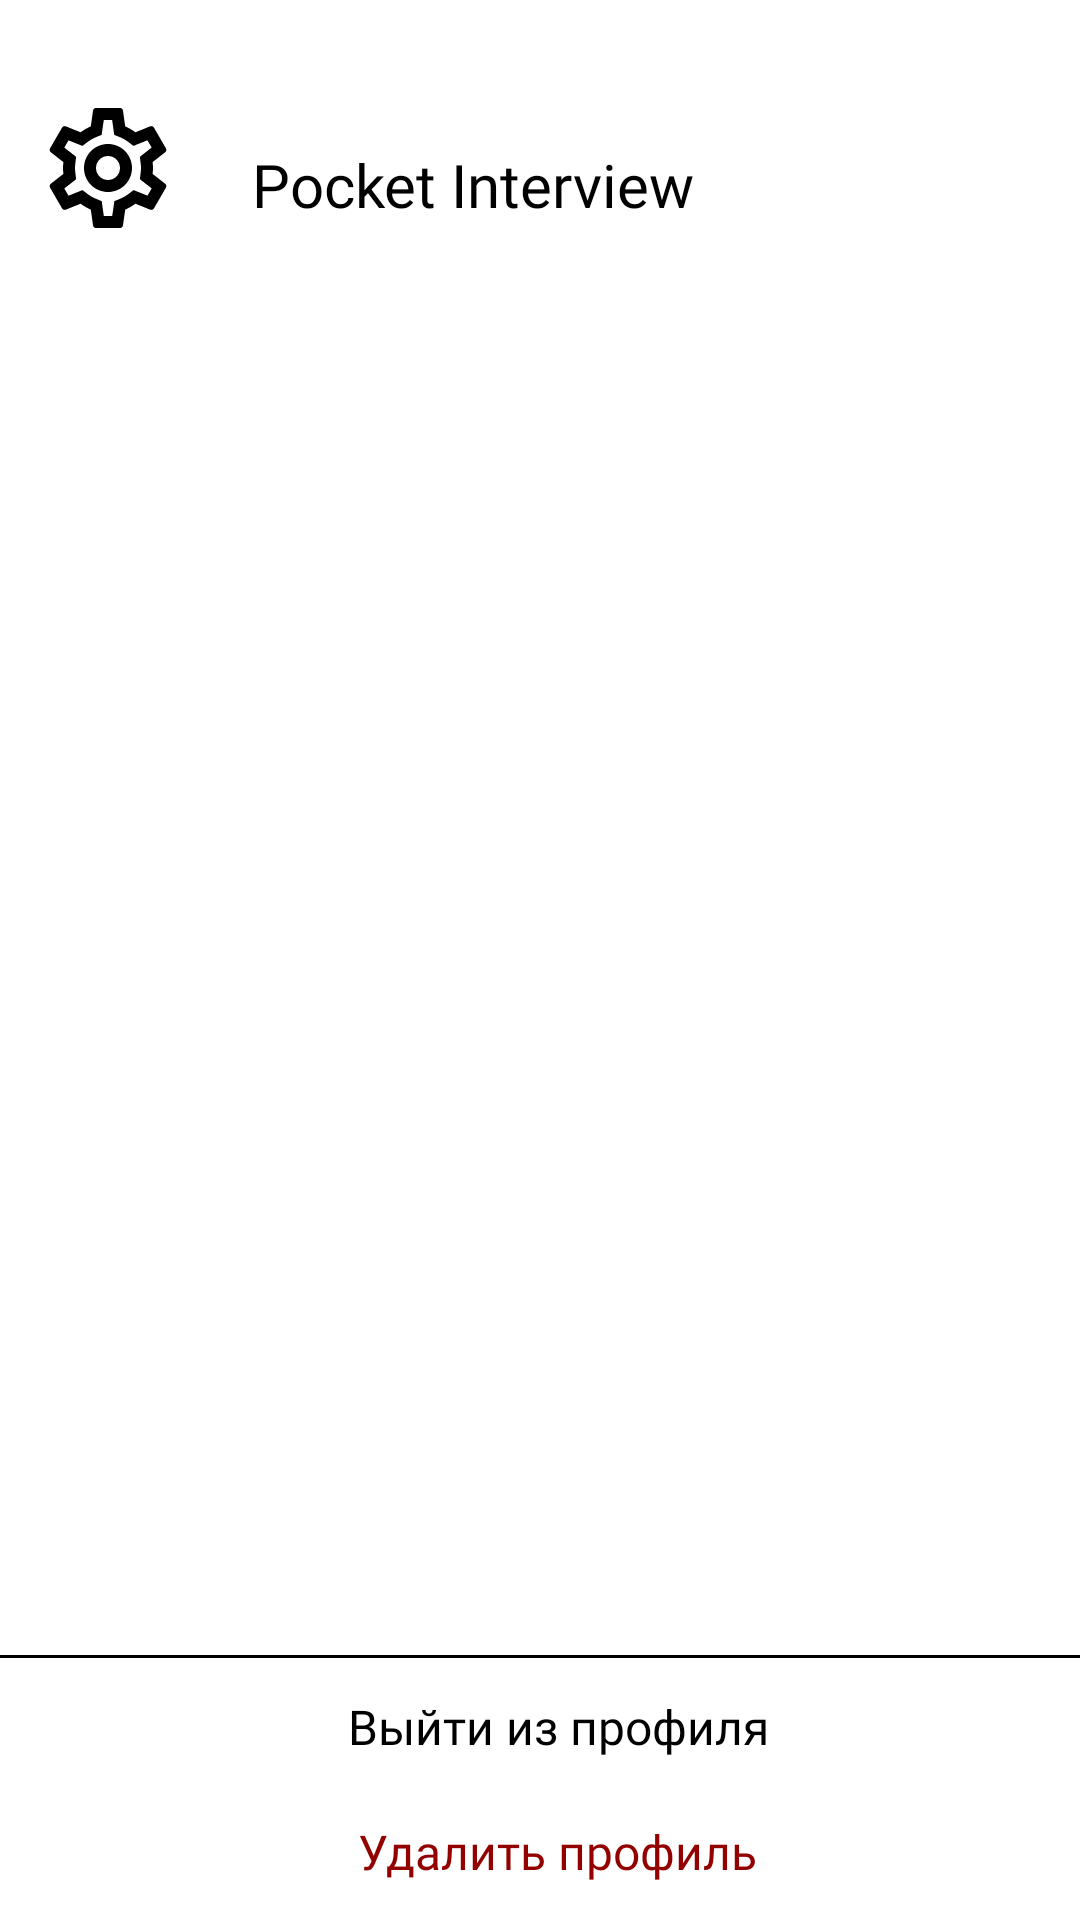

Point at icon controls on the screen. Image size 1080px×1920px, points as (x,y).
settings: (108,168)
